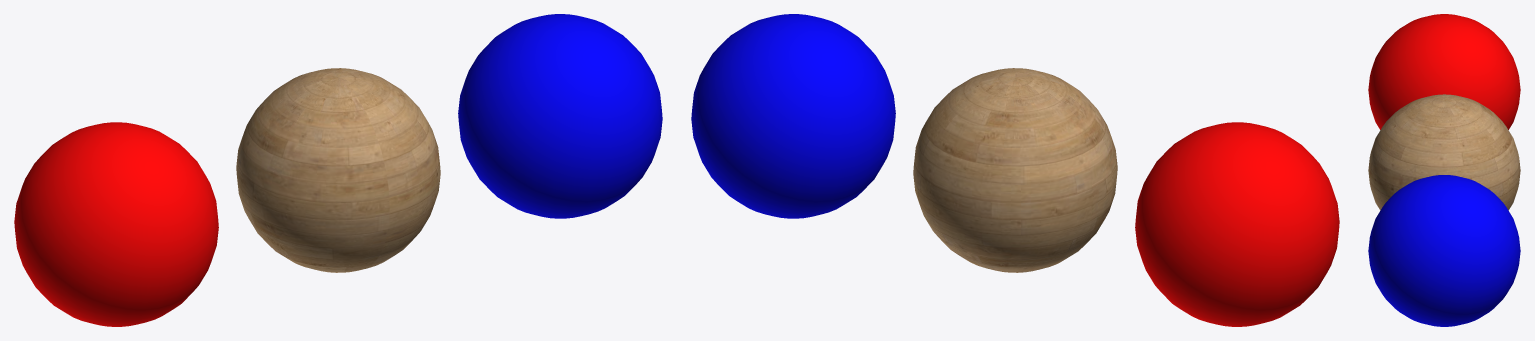
The model's file is PBR_Textures.gltf.
The picture shows the model from 3 angles, left to right: view 1: azimuth 30°, elevation 25°; view 2: azimuth 150°, elevation 25°; view 3: azimuth 270°, elevation 25°; orthographic projection. The views are drawn at different scales.
Parts seen in each view (by area): view 1: SphereMetallicRoughness, SphereBump, SphereBaseColor; view 2: SphereMetallicRoughness, SphereBump, SphereBaseColor; view 3: SphereBump, SphereBaseColor, SphereMetallicRoughness.
Boxes of the visible parts, x1,y1,x2,y2 form: SphereMetallicRoughness: (14,122,218,326); SphereBump: (458,14,662,218); SphereBaseColor: (236,68,440,272); SphereMetallicRoughness: (1135,122,1339,326); SphereBump: (691,14,895,218); SphereBaseColor: (913,68,1117,272); SphereBump: (1368,175,1520,326); SphereBaseColor: (1368,94,1520,210); SphereMetallicRoughness: (1368,14,1520,129).
Size of the model in its own units: 14 by 4 by 4.
3 materials, 1 textured.
